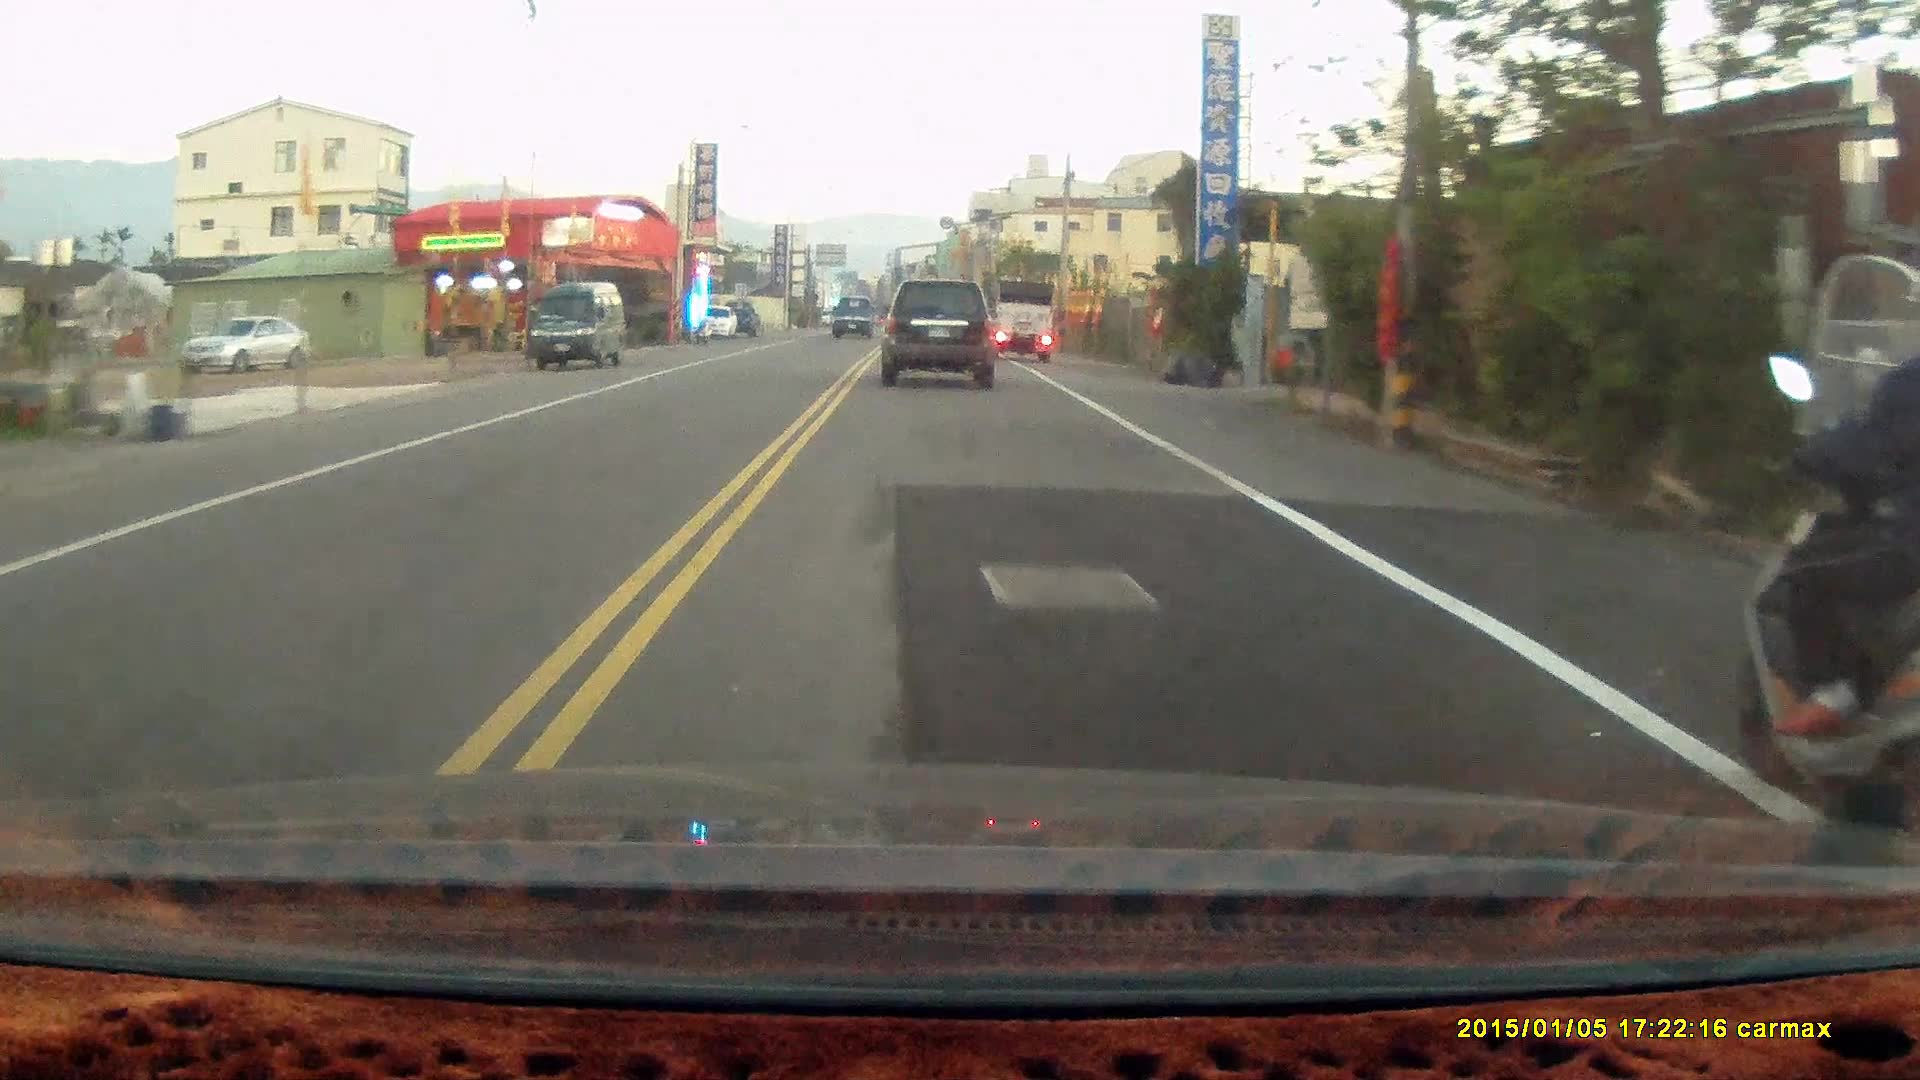rider: (1736, 259, 1920, 848)
vehicle: (874, 270, 1004, 385), (532, 281, 627, 372), (177, 311, 315, 372), (985, 277, 1058, 364)
